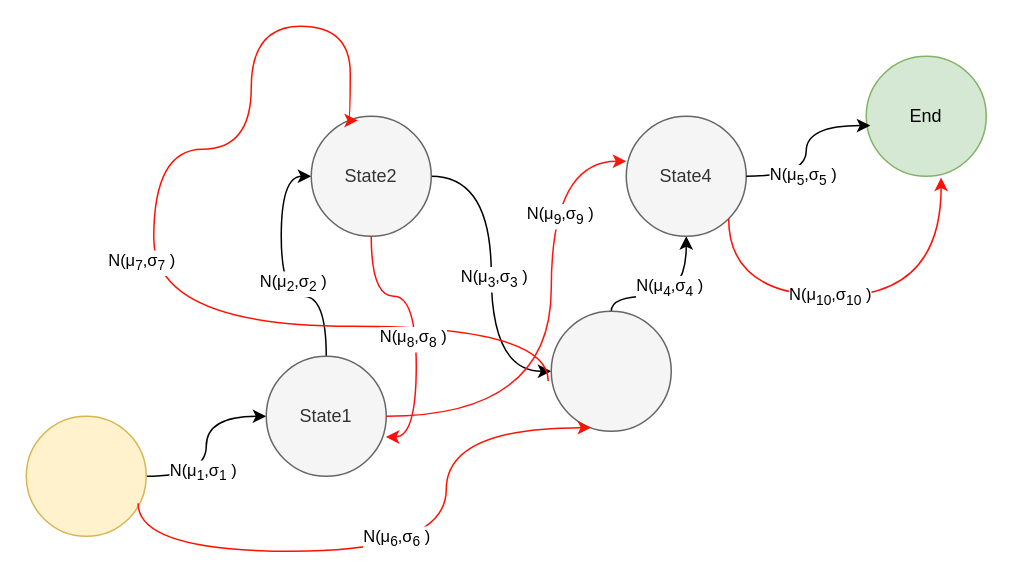
Image size: 1013x578. Some labels were removed from this diagram. The shapes that lost their labels are listed below. From the top down, each one's centre as x and y in pixels, then its label:
the point at 610,370: State3
the point at 85,475: Start
